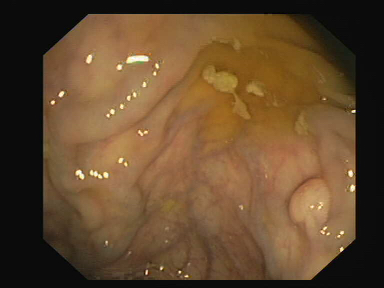polyp: (287, 177, 335, 232)
